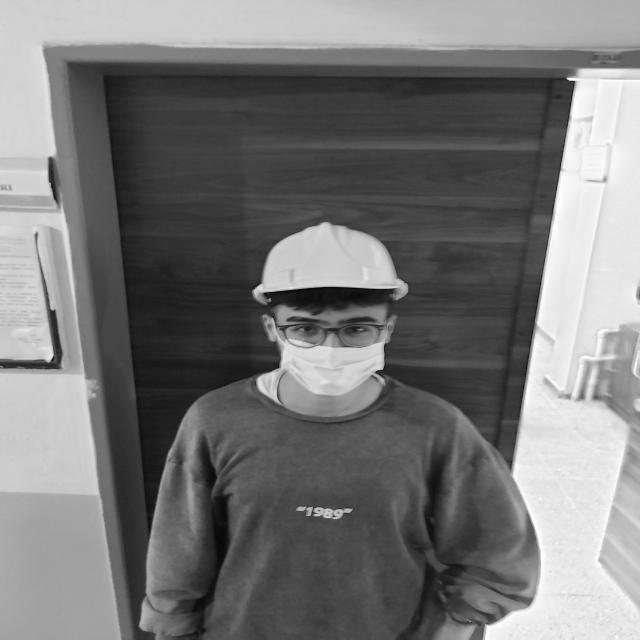safety_helmet: (252, 222, 410, 314)
